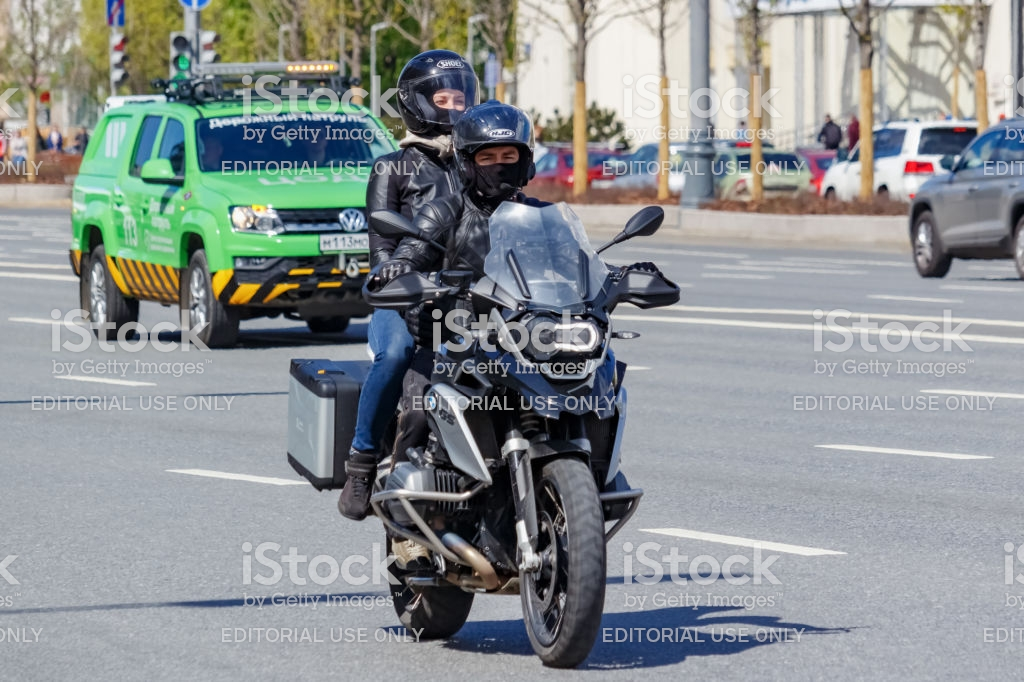helmet: (458, 106, 538, 200), (399, 49, 483, 134)
